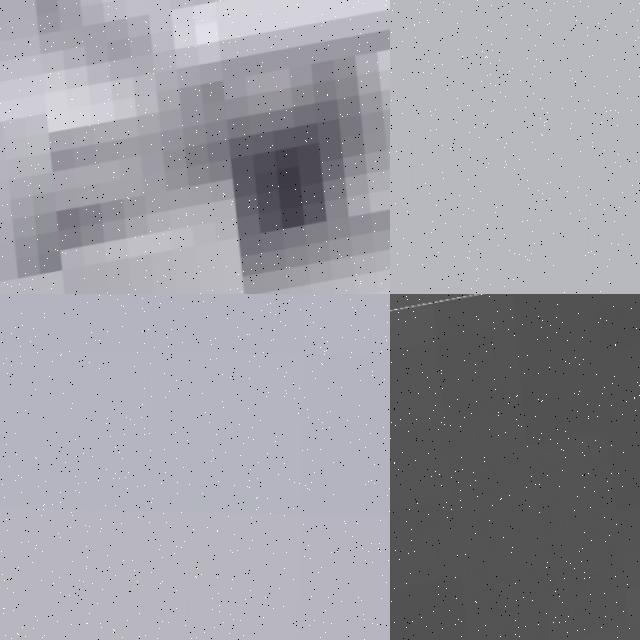drone: (0, 0, 390, 294), (390, 294, 640, 640)
